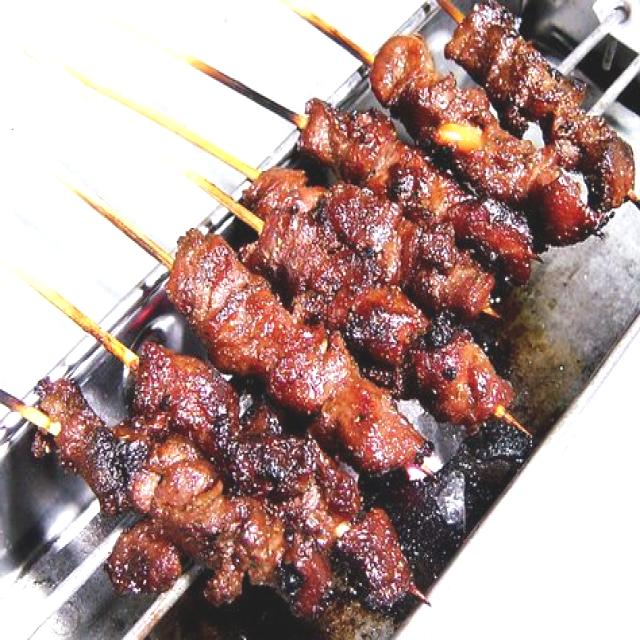sate: (0, 119, 428, 476)
